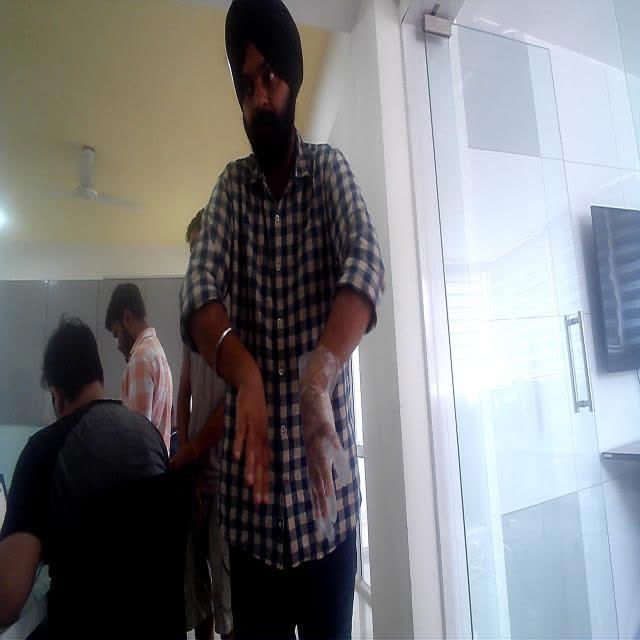with_gloves: (292, 372, 359, 537)
without_gloves: (228, 371, 270, 514)
